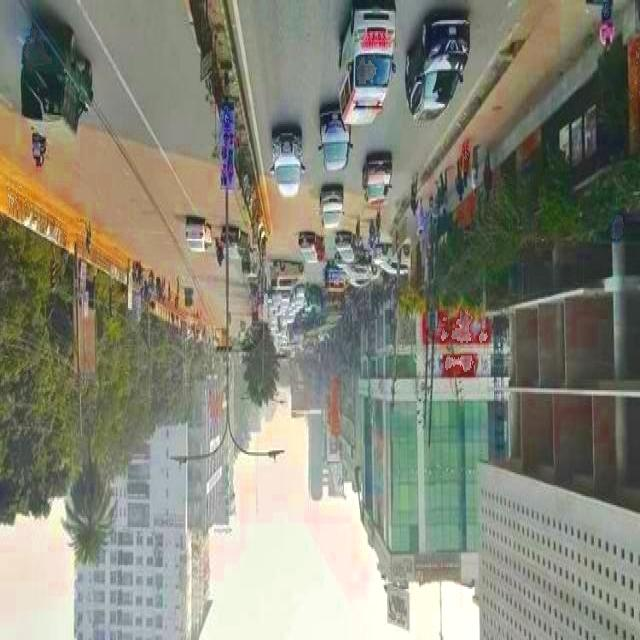black: (405, 12, 471, 127), (322, 107, 356, 172)
maroon: (362, 154, 393, 203), (292, 234, 328, 266)
white: (340, 0, 397, 126), (270, 126, 306, 200), (374, 241, 409, 277), (186, 215, 212, 257)
